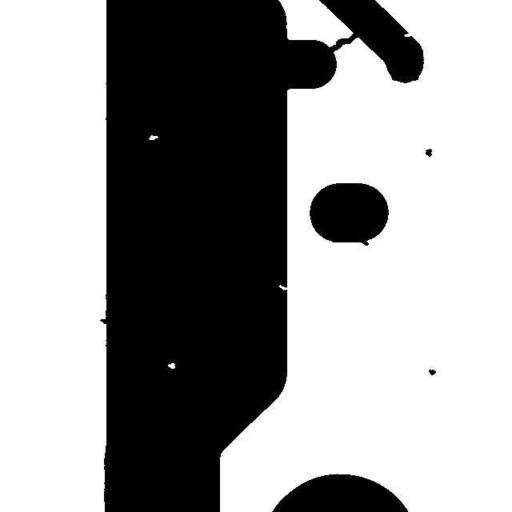copper: (418, 142, 438, 163), (422, 362, 442, 382)
mousebite: (272, 278, 295, 297), (397, 26, 418, 43)
pin-hole: (142, 128, 165, 146), (161, 356, 182, 375)
short: (323, 26, 364, 58)
spur: (350, 231, 375, 252), (93, 312, 115, 332)
